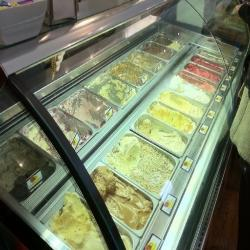icecream: (106, 130, 177, 197), (19, 102, 98, 159), (80, 66, 149, 113), (150, 91, 202, 134), (177, 62, 221, 91)
